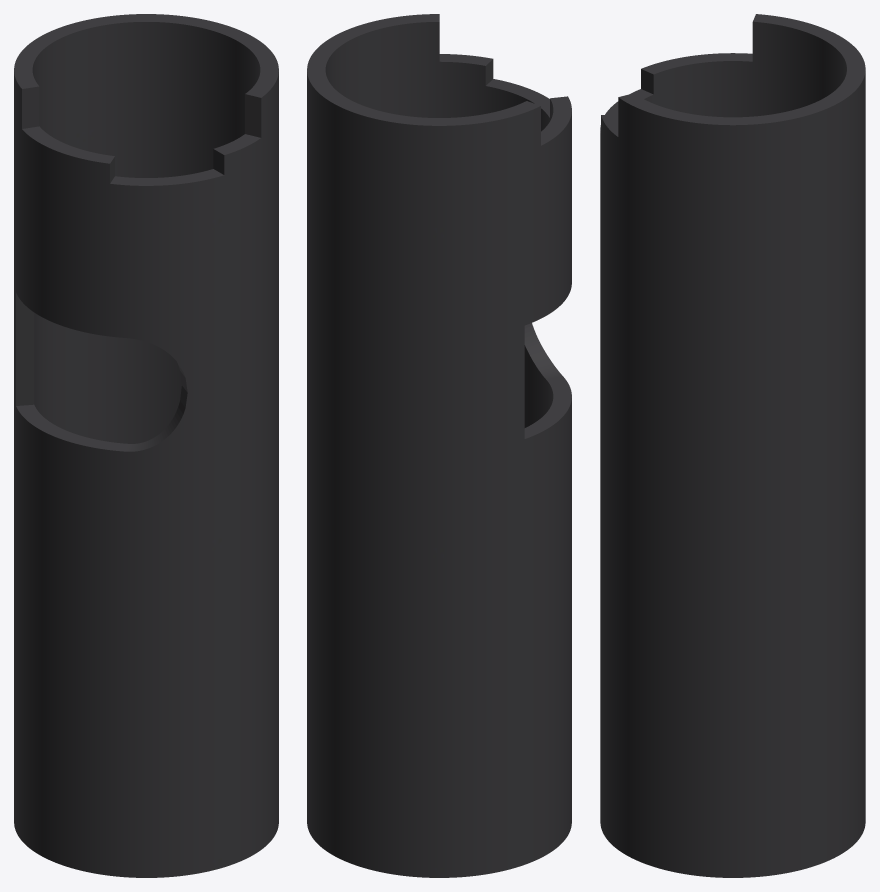
The model's file is knight-black.glb.
The picture shows the model from 3 angles, left to right: view 1: azimuth 30°, elevation 25°; view 2: azimuth 150°, elevation 25°; view 3: azimuth 270°, elevation 25°; orthographic projection.
Parts seen in each view (by area): view 1: 04_jezdec_cerna; view 2: 04_jezdec_cerna; view 3: 04_jezdec_cerna.
Boxes of the visible parts, x1,y1,x2,y2 form: 04_jezdec_cerna: (14, 14, 278, 877); 04_jezdec_cerna: (307, 14, 571, 877); 04_jezdec_cerna: (600, 14, 865, 877).
Size of the model in its own units: 0.4659 by 1.46 by 0.4659.
1 material, 1 textured.
